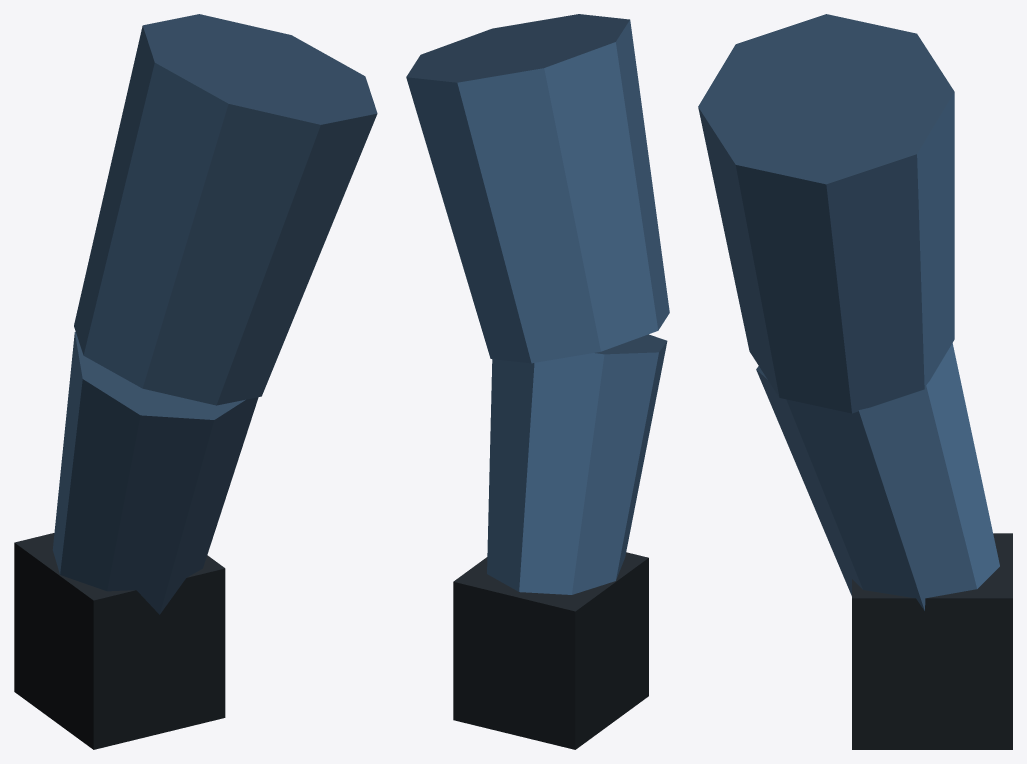
Rendered from counter_terrorist_left_arm.obj.
3 renders of one model, left to right at view 1: azimuth 30°, elevation 25°; view 2: azimuth 150°, elevation 25°; view 3: azimuth 270°, elevation 25°, orthographic. The views are drawn at different scales.
Visible parts, largest first — view 1: counter_terrorist_left_arm; view 2: counter_terrorist_left_arm; view 3: counter_terrorist_left_arm.
Boxes of the visible parts, x1=… form: counter_terrorist_left_arm: x1=14, y1=14, x2=377, y2=749; counter_terrorist_left_arm: x1=406, y1=14, x2=669, y2=749; counter_terrorist_left_arm: x1=698, y1=14, x2=1012, y2=749.
Bounding box in the file's own units: 9.83 × 23.83 × 9.79.
Materials: 1 (1 with a texture image).
